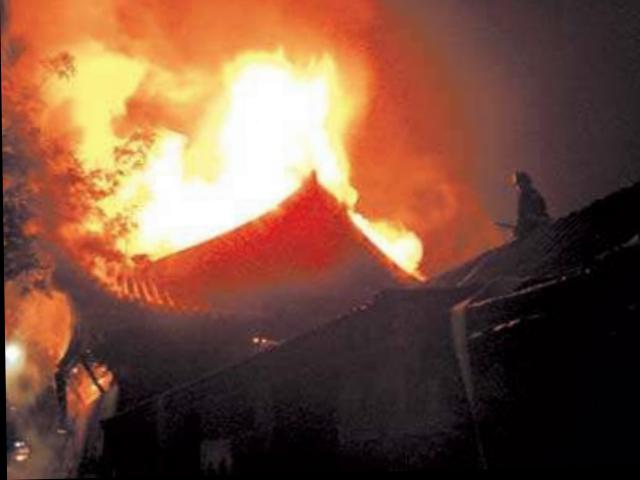fire: (46, 39, 431, 307)
